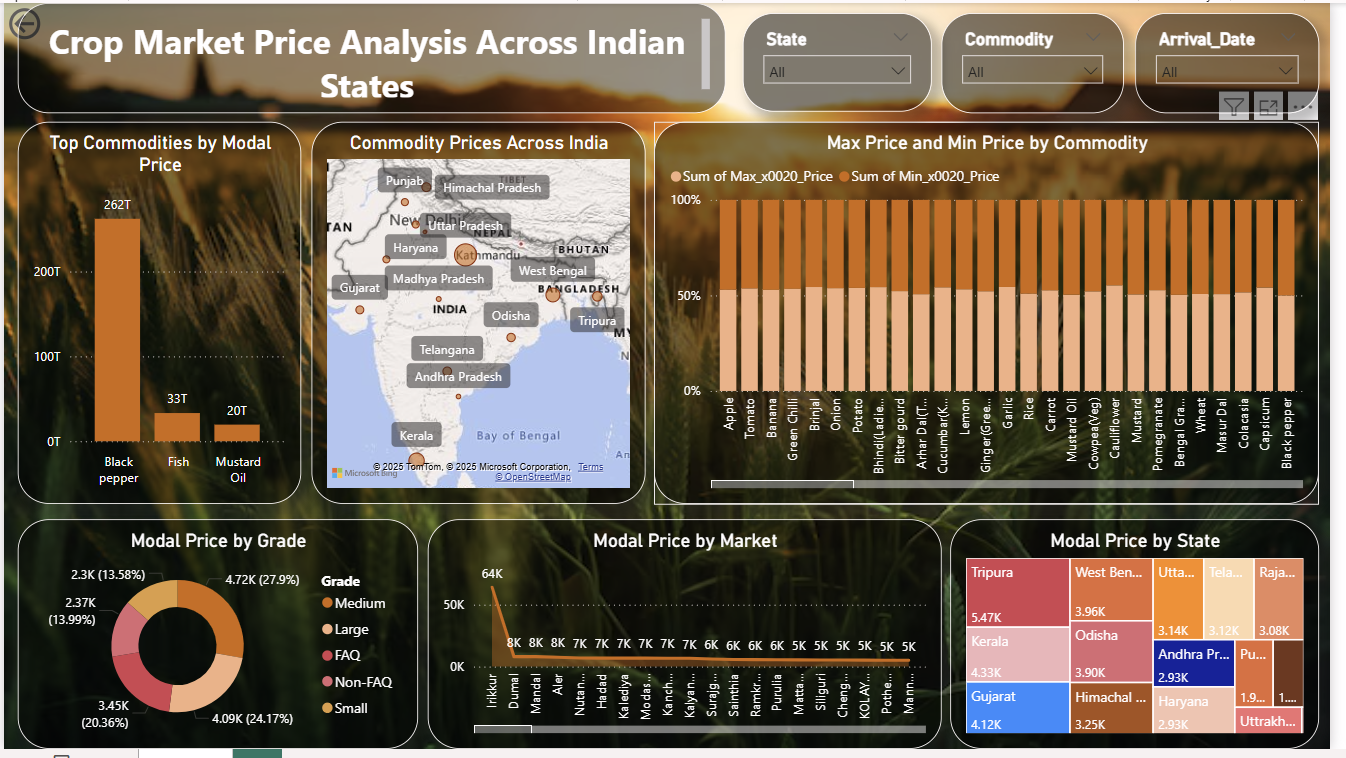

The dashboard page shown, as its layout file describes it:
{"tool":"powerbi","page":{"name":"Page 1","canvas":[1280,720],"ordinal":0},"visuals":[{"type":"columnChart","title":"Top Commodities by Modal Price","fields":{"Category":["Market Price.Commodity"],"Y":["Market Price.Total Modal Price"]},"box":[13.3,114.6,273.9,369.2],"z":0},{"type":"map","title":"Commodity Prices Across India","fields":{"Category":["Market Price.State"],"Size":["CountNonNull(Market Price.Modal_x0020_Price)"]},"box":[296.8,114.6,322.1,369.2],"z":1000},{"type":"hundredPercentStackedColumnChart","title":" Max Price and Min Price by Commodity","fields":{"Category":["Market Price.Commodity"],"Y":["Sum(Market Price.Max_x0020_Price)","Sum(Market Price.Min_x0020_Price)"]},"box":[627.3,114.6,641.8,369.2],"z":2000},{"type":"donutChart","title":"Modal Price by Grade","fields":{"Category":["Market Price.Grade"],"Y":["Market Price.Average Modal Price"]},"box":[13.3,498.3,386.1,222],"z":3000},{"type":"actionButton","box":[0,0,100,40],"z":4000},{"type":"lineChart","title":"Modal Price by Market ","fields":{"Category":["Market Price.Market"],"Y":["Market Price.Average Modal Price"]},"box":[409,498.3,495.8,222],"z":5000},{"type":"textbox","box":[13.3,0,682.8,106.2],"z":6000},{"type":"slicer","fields":{"Values":["Market Price.State"]},"box":[713,9.7,182.2,95.3],"z":7000},{"type":"treemap","title":"Modal Price by State ","fields":{"Values":["Market Price.Average Modal Price"],"Group":["Market Price.State"]},"box":[913.3,498.3,355.9,222],"z":8000},{"type":"slicer","fields":{"Values":["Market Price.Arrival_Date"]},"box":[1091.8,9.7,177.3,96.5],"z":9000},{"type":"slicer","fields":{"Values":["Market Price.Commodity"]},"box":[904.8,9.7,176.1,96.5],"z":10000}]}

Visuals, with their boxes in screenshot pixels (x1, y1, x2, y2), scaled from the page's 1280x720 canvas onto the 1346x758 screenshot:
"Top Commodities by Modal Price" columnChart: locate(14, 121, 302, 509)
"Commodity Prices Across India" map: locate(312, 121, 651, 509)
" Max Price and Min Price by Commodity" hundredPercentStackedColumnChart: locate(660, 121, 1335, 509)
"Modal Price by Grade" donutChart: locate(14, 525, 420, 757)
actionButton: locate(0, 0, 105, 42)
"Modal Price by Market " lineChart: locate(430, 525, 951, 757)
textbox: locate(14, 0, 732, 112)
slicer - Market Price.State: locate(750, 10, 941, 111)
"Modal Price by State " treemap: locate(960, 525, 1335, 757)
slicer - Market Price.Arrival_Date: locate(1148, 10, 1335, 112)
slicer - Market Price.Commodity: locate(951, 10, 1137, 112)
